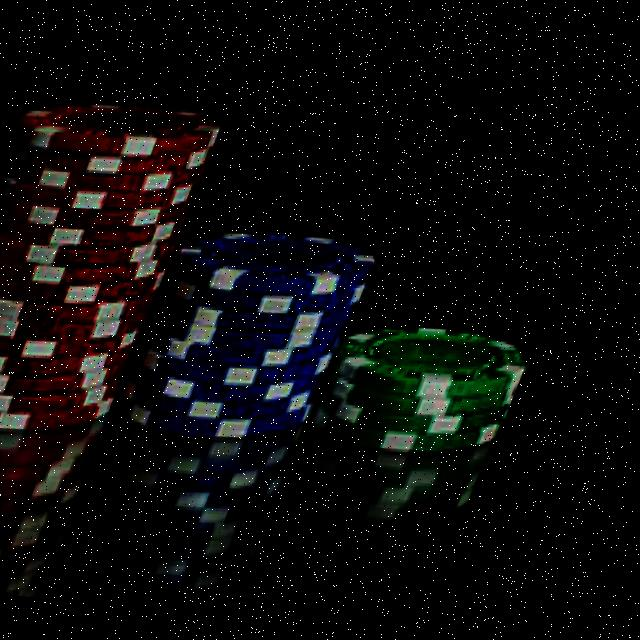Chip: (0, 69, 247, 461), (120, 204, 403, 467), (312, 306, 567, 490)
